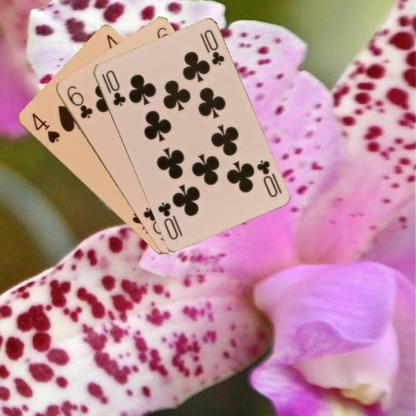10c: (254, 157, 278, 199), (102, 67, 127, 107)
4s: (29, 110, 61, 145)
6c: (64, 83, 94, 120)
